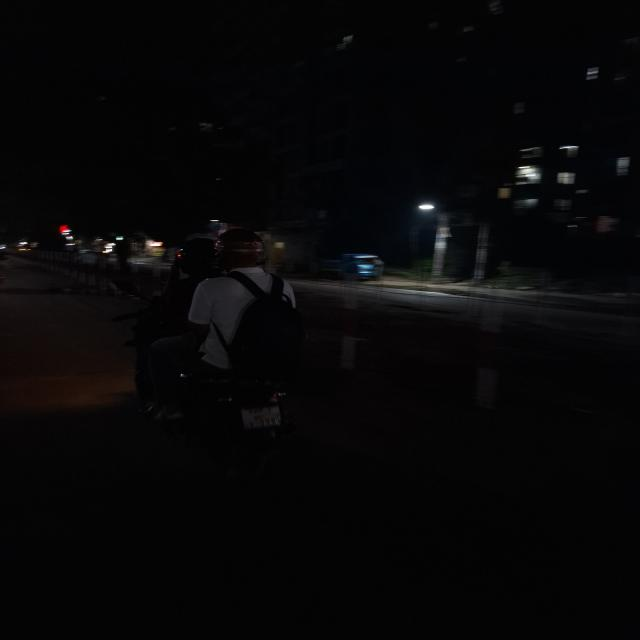motorcycle: (146, 230, 313, 512)
